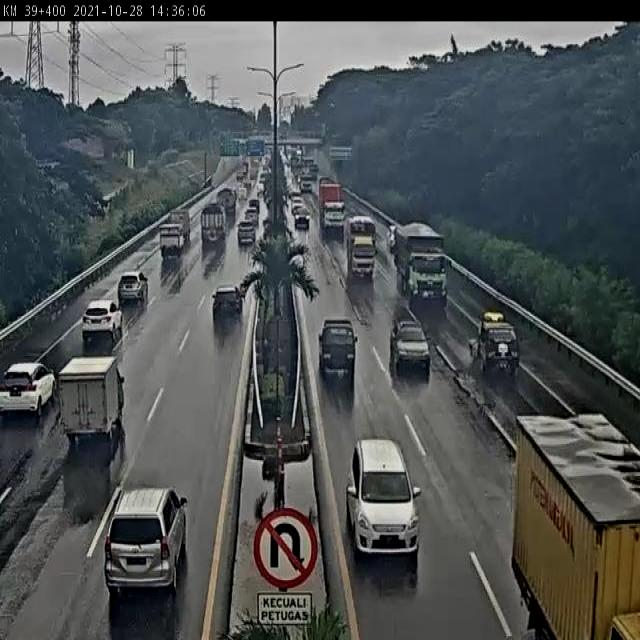Car: (103, 487, 186, 598), (346, 437, 420, 556), (471, 310, 520, 378), (0, 361, 55, 419), (390, 313, 432, 381), (319, 317, 358, 388), (82, 298, 125, 347), (211, 284, 243, 328), (117, 270, 148, 307), (237, 218, 256, 245), (293, 204, 310, 230)
Truck: (515, 413, 640, 640), (56, 356, 122, 442), (393, 224, 449, 307), (348, 218, 378, 279), (318, 181, 347, 236), (158, 208, 190, 256), (202, 203, 225, 243)
